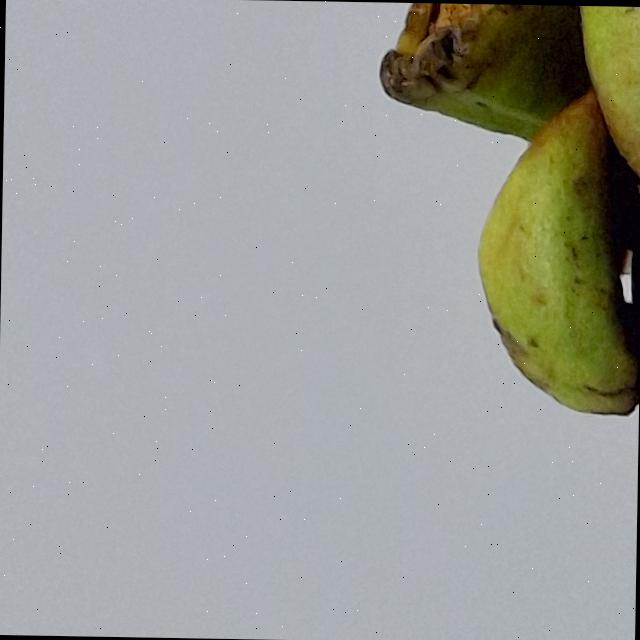mangosteen: (329, 0, 640, 640)
